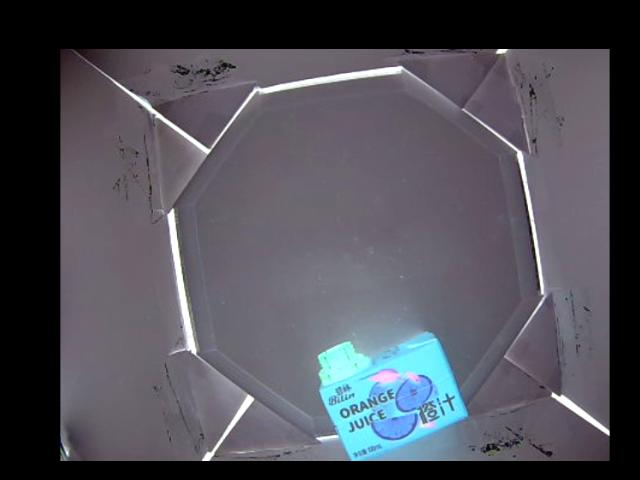Bottle: (315, 332, 472, 460)
